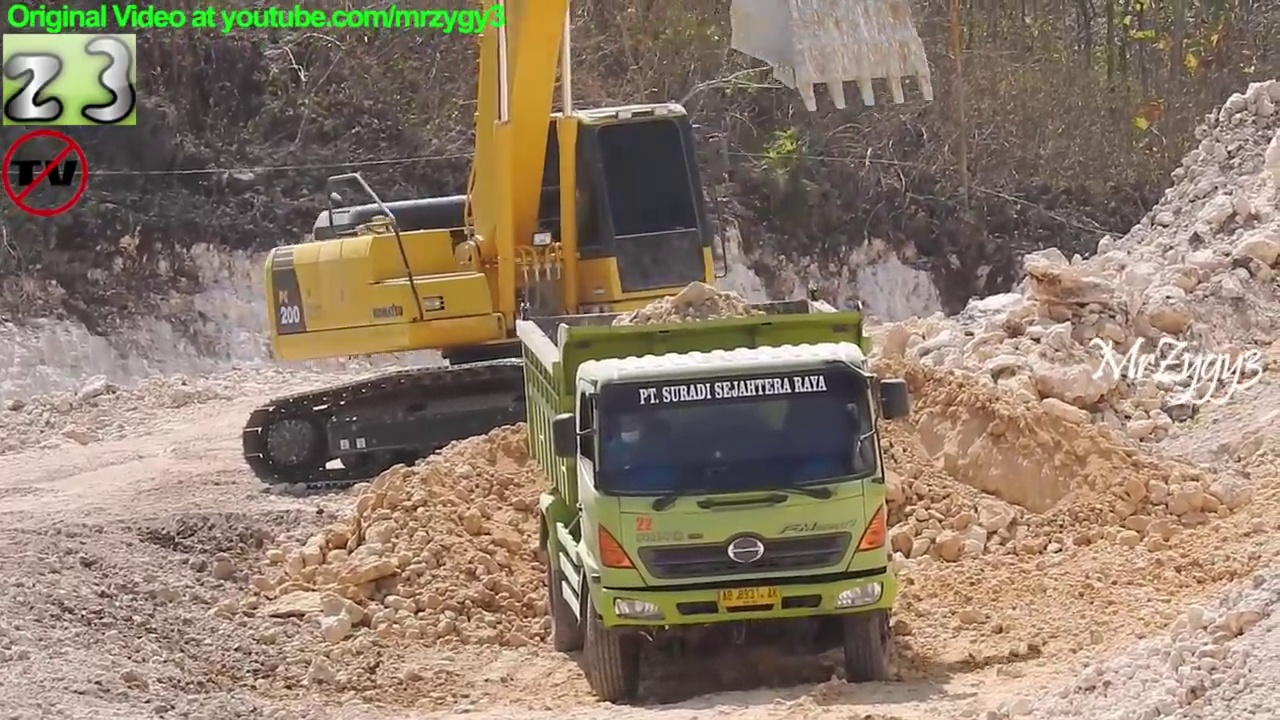excavator: (239, 1, 940, 500)
truck: (510, 289, 916, 710)
